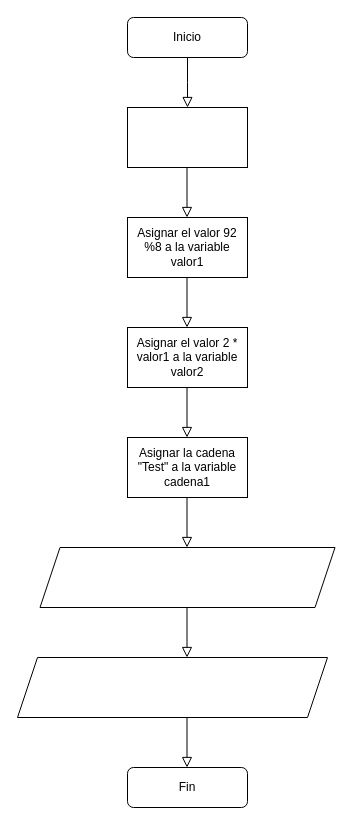
Some shapes in this 353 by 825 pixel diagram are drawn without their labels. The centre of each missing label's shape, as x and y in pixels:
Asignar el valor 49,78 a la variable CST: point 187,137
Escribir el contenido de cadena1 y " , valor2 = " y valor2: point 187,577
Escribir el valor de la variable valor1 y " # " y el valor de CST: point 172,687
